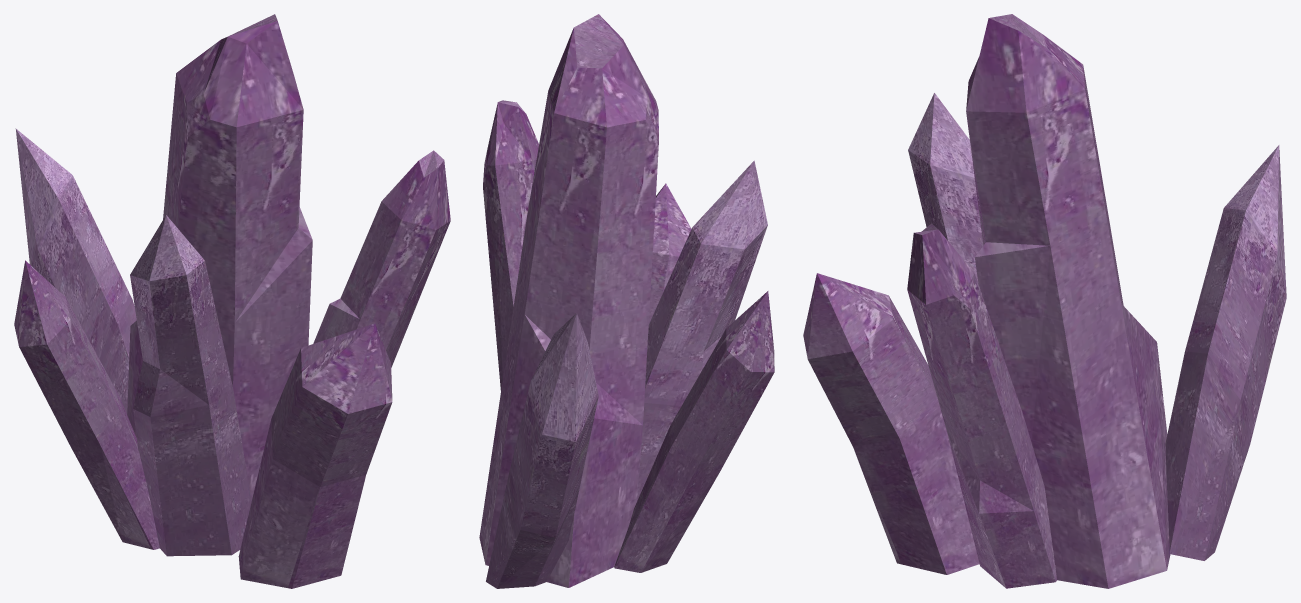
The model's file is GS_BOG_NARCO.glb.
The picture shows the model from 3 angles, left to right: view 1: azimuth 30°, elevation 25°; view 2: azimuth 150°, elevation 25°; view 3: azimuth 270°, elevation 25°; orthographic projection. The views are drawn at different scales.
Parts seen in each view (by area): view 1: GS_BOG_NARCO; view 2: GS_BOG_NARCO; view 3: GS_BOG_NARCO.
Boxes of the visible parts, x1,y1,x2,y2 form: GS_BOG_NARCO: (14,14,450,588); GS_BOG_NARCO: (479,14,774,588); GS_BOG_NARCO: (803,14,1286,588).
Size of the model in its own units: 0.2387 by 0.3299 by 0.2689.
2 materials, 2 textured.
